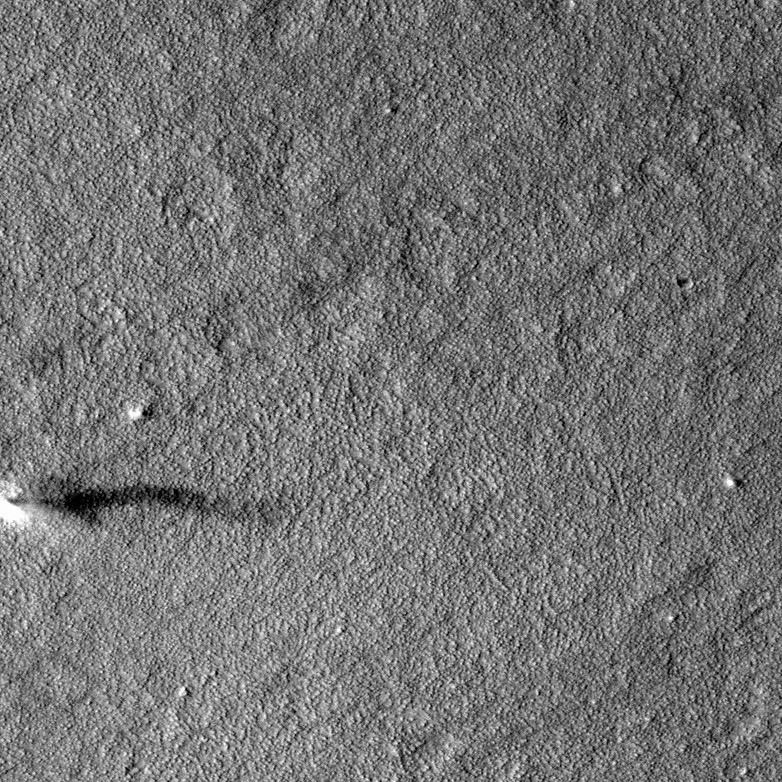dust_devil: (1, 478, 290, 538)
